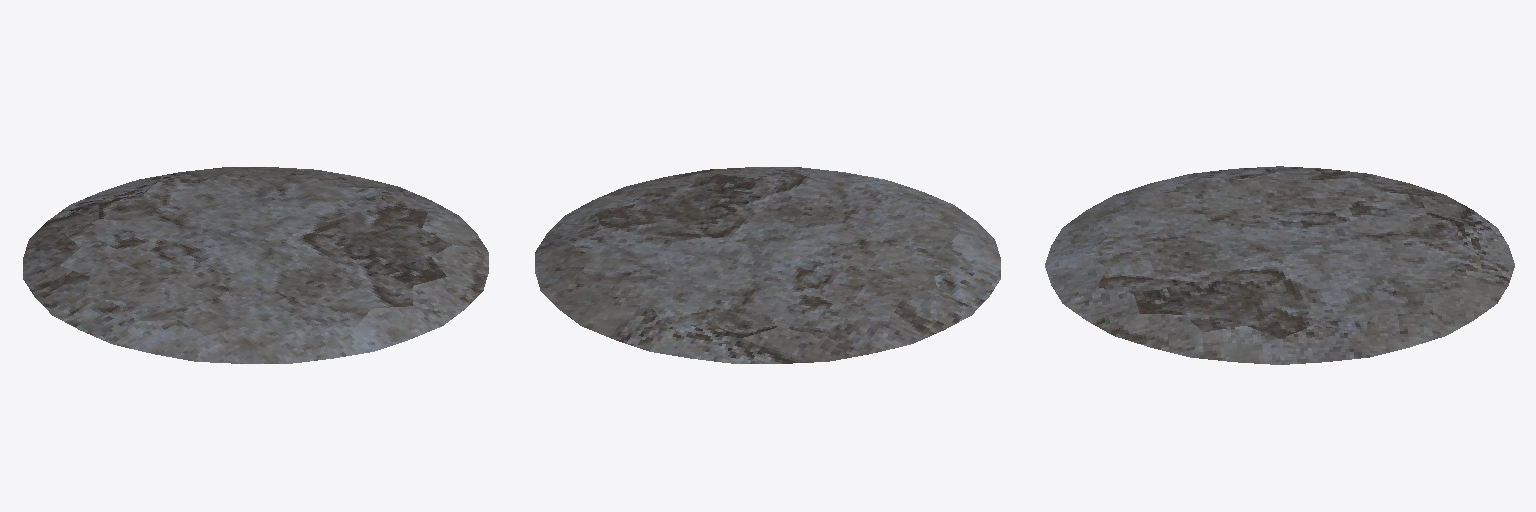
3 renders of one model, left to right at view 1: azimuth 30°, elevation 25°; view 2: azimuth 150°, elevation 25°; view 3: azimuth 270°, elevation 25°, orthographic.
Parts seen in each view (by area): view 1: Circle.001; view 2: Circle.001; view 3: Circle.001.
Boxes of the visible parts, x1=… form: Circle.001: x1=23, y1=167, x2=488, y2=363; Circle.001: x1=535, y1=167, x2=1000, y2=363; Circle.001: x1=1045, y1=166, x2=1514, y2=364.
Bounding box in the file's own units: 11.69 × 0.5328 × 11.69.
1 materials, 1 textured.